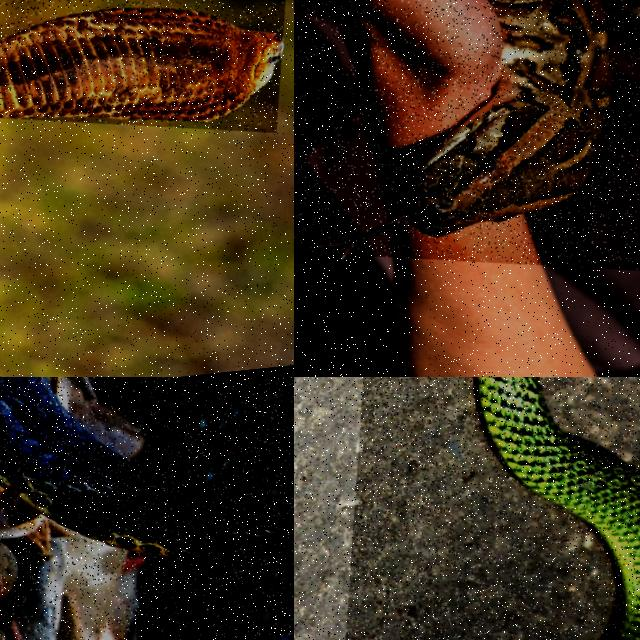Chrysopelea ornata: (476, 377, 639, 639)
Ophiophagus hannah: (0, 377, 293, 639), (0, 8, 282, 120)
Python bivittatus: (338, 0, 611, 249)
